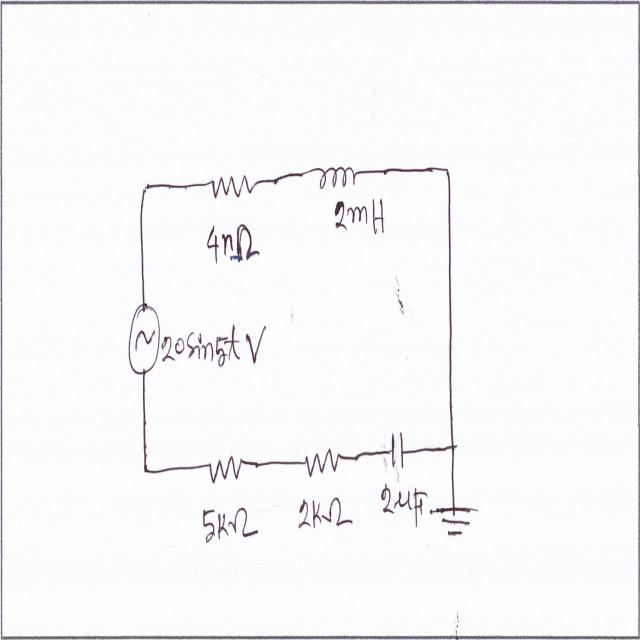ac_current: (126, 300, 161, 380)
capacitor: (389, 419, 406, 479)
ground: (429, 500, 480, 545)
inductor: (309, 152, 359, 194)
resistor: (212, 165, 255, 204), (206, 448, 248, 486), (303, 447, 344, 478)
